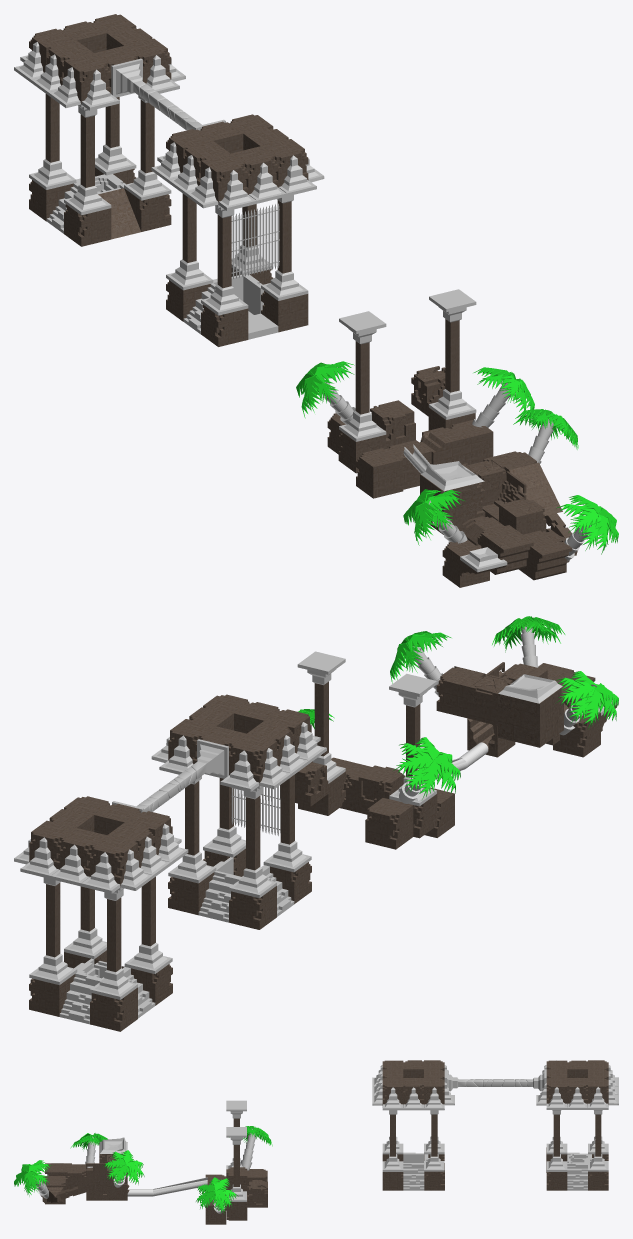
Rendered from Level_4.fbx.
3 renders of one model, top to bottom at view 1: azimuth 30°, elevation 25°; view 2: azimuth 150°, elevation 25°; view 3: azimuth 270°, elevation 25°, orthographic. The views are drawn at different scales.
Parts seen in each view (by area): view 1: Cube1.006, Cube1.004, Cube1.032, Cube1.015, Cube1.038, Fence.002, Fence.001, Cube1.014, Cube1.003, Ramp.001, Cube1.036, Cube1.028 (+44 smaller); view 2: Cube1.004, Cube1.037, Cube1.026, Cube1.019, Cube1.005, Cube1.038, Cube1.010, Cube1.025, Cube1.018, Stairs1.005, Stairs1.001, Cube1.041 (+57 smaller); view 3: Circle, Stairs1.002, ColumnHorizontal, Stairs1.004, Cube1.041, Ramp.001, Cube1.003, Cube1.013, Cube1.030, Cube1.016, Cube1.021, Cube1.020 (+32 smaller).
Part boxes in pixels (bbox=[...]): Cube1.006: bbox=[356, 448, 403, 498]; Cube1.004: bbox=[420, 474, 485, 534]; Cube1.032: bbox=[64, 204, 111, 246]; Cube1.015: bbox=[201, 304, 248, 346]; Cube1.038: bbox=[370, 400, 415, 448]; Fence.002: bbox=[232, 203, 279, 247]; Fence.001: bbox=[232, 236, 279, 279]; Cube1.014: bbox=[261, 291, 308, 332]; Cube1.003: bbox=[499, 499, 546, 534]; Ramp.001: bbox=[509, 462, 562, 515]; Cube1.036: bbox=[449, 420, 493, 464]; Cube1.028: bbox=[64, 53, 111, 103]; Cube1.004: bbox=[498, 688, 563, 747]; Cube1.037: bbox=[365, 798, 413, 849]; Cube1.026: bbox=[90, 987, 137, 1031]; Cube1.019: bbox=[229, 886, 276, 929]; Cube1.005: bbox=[436, 667, 484, 717]; Cube1.038: bbox=[358, 765, 405, 808]; Cube1.010: bbox=[553, 710, 600, 757]; Cube1.025: bbox=[90, 835, 137, 887]; Cube1.018: bbox=[229, 733, 276, 785]; Stairs1.005: bbox=[59, 972, 103, 1024]; Stairs1.001: bbox=[198, 870, 242, 922]; Cube1.041: bbox=[280, 761, 328, 806]; Circle: bbox=[127, 1177, 207, 1196]; Stairs1.002: bbox=[403, 1163, 424, 1190]; ColumnHorizontal: bbox=[458, 1079, 532, 1086]; Stairs1.004: bbox=[567, 1163, 587, 1190]; Cube1.041: bbox=[247, 1180, 267, 1207]; Ramp.001: bbox=[78, 1164, 106, 1190]; Cube1.003: bbox=[65, 1164, 86, 1189]; Cube1.013: bbox=[382, 1078, 403, 1105]; Cube1.030: bbox=[546, 1078, 567, 1104]; Cube1.016: bbox=[424, 1078, 444, 1104]; Cube1.021: bbox=[403, 1078, 423, 1104]; Cube1.020: bbox=[424, 1163, 444, 1190].
Size of the model in its own units: 1492 by 1393 by 5844.
